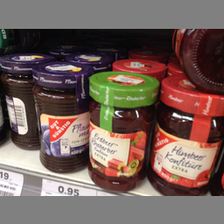jam: (87, 70, 161, 193), (148, 76, 223, 196), (31, 62, 91, 173), (1, 53, 54, 150)
